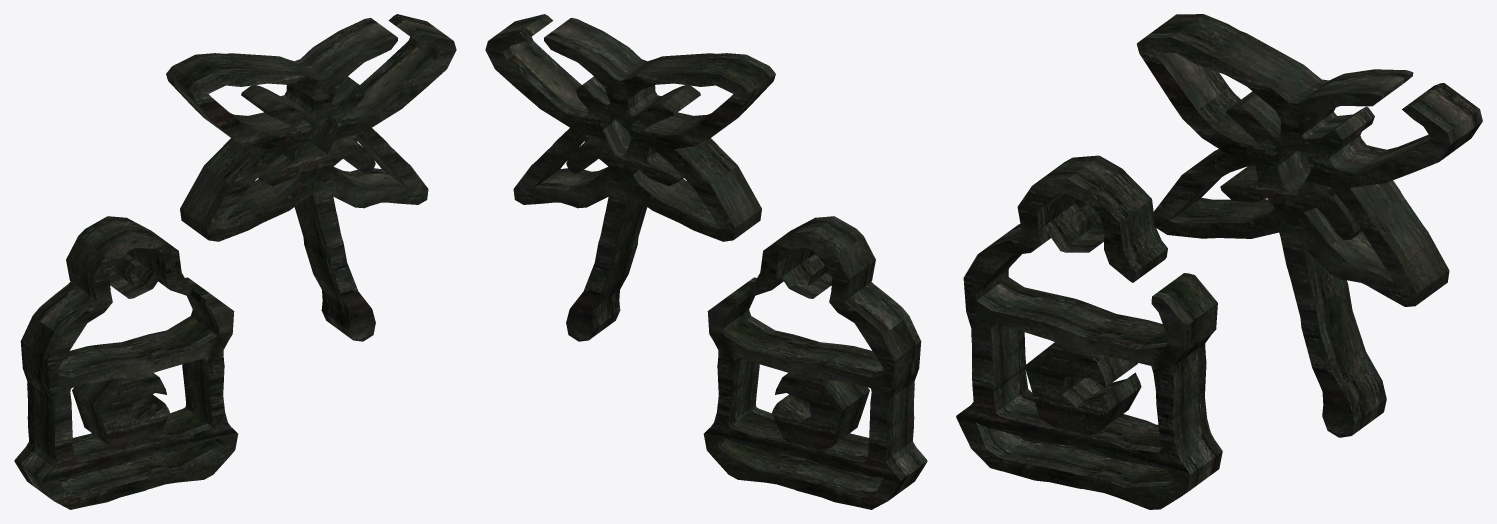
File: cshopmodel.gltf
3 renders of one model, left to right at view 1: azimuth 30°, elevation 25°; view 2: azimuth 150°, elevation 25°; view 3: azimuth 330°, elevation 25°, orthographic. The views are drawn at different scales.
Parts seen in each view (by area): view 1: Curve.001; view 2: Curve.001; view 3: Curve.001.
Part boxes in pixels (box(x1,y1,x2,y2)): Curve.001: box(14, 14, 456, 509); Curve.001: box(485, 14, 927, 509); Curve.001: box(956, 14, 1482, 509).
Bounding box in the file's own units: 2.21 × 2.04 × 0.25.
Materials: 1 (1 with a texture image).
